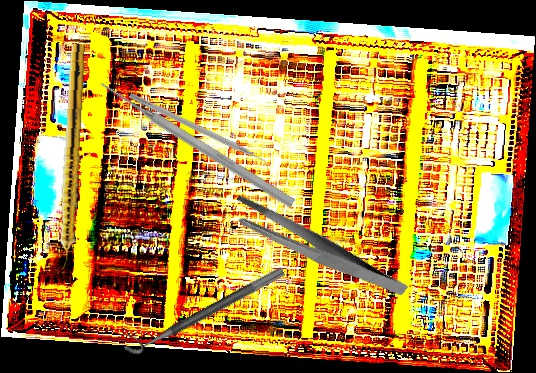Chopper: (124, 92, 274, 175)
Dressing Forceps: (226, 161, 409, 336)
Fixation Ring: (118, 253, 286, 359)
Handpiece: (54, 43, 86, 271)
Pusher: (97, 77, 297, 210)
